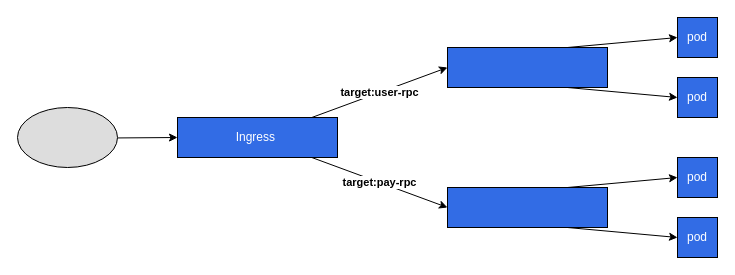
Image size: 735x275. Some labels were removed from this diagram. Each missing label, with the centre of its shape:
Service pay-rpc:20880: point 527,207
Service user-rpc:20880: point 527,67
消费者: point 67,137
